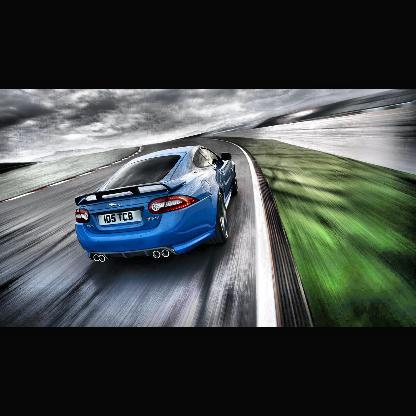Jaguar XK XKR 2012: (63, 136, 247, 288)
